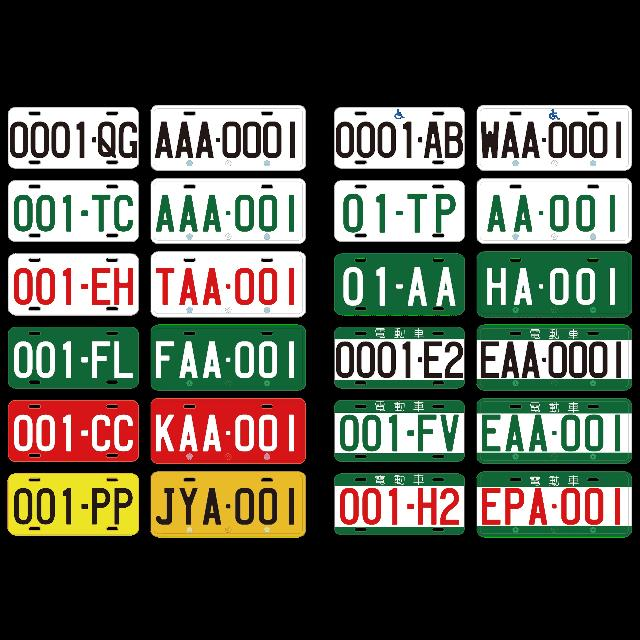plate: (150, 105, 306, 171), (476, 105, 632, 171), (476, 251, 632, 317), (150, 325, 306, 391), (476, 398, 632, 464), (477, 325, 632, 391), (477, 472, 632, 538), (151, 252, 306, 317), (8, 253, 139, 316), (334, 253, 465, 316), (8, 107, 139, 169), (334, 107, 465, 169), (8, 327, 139, 389), (334, 327, 465, 389), (334, 400, 465, 462), (334, 474, 465, 536)
